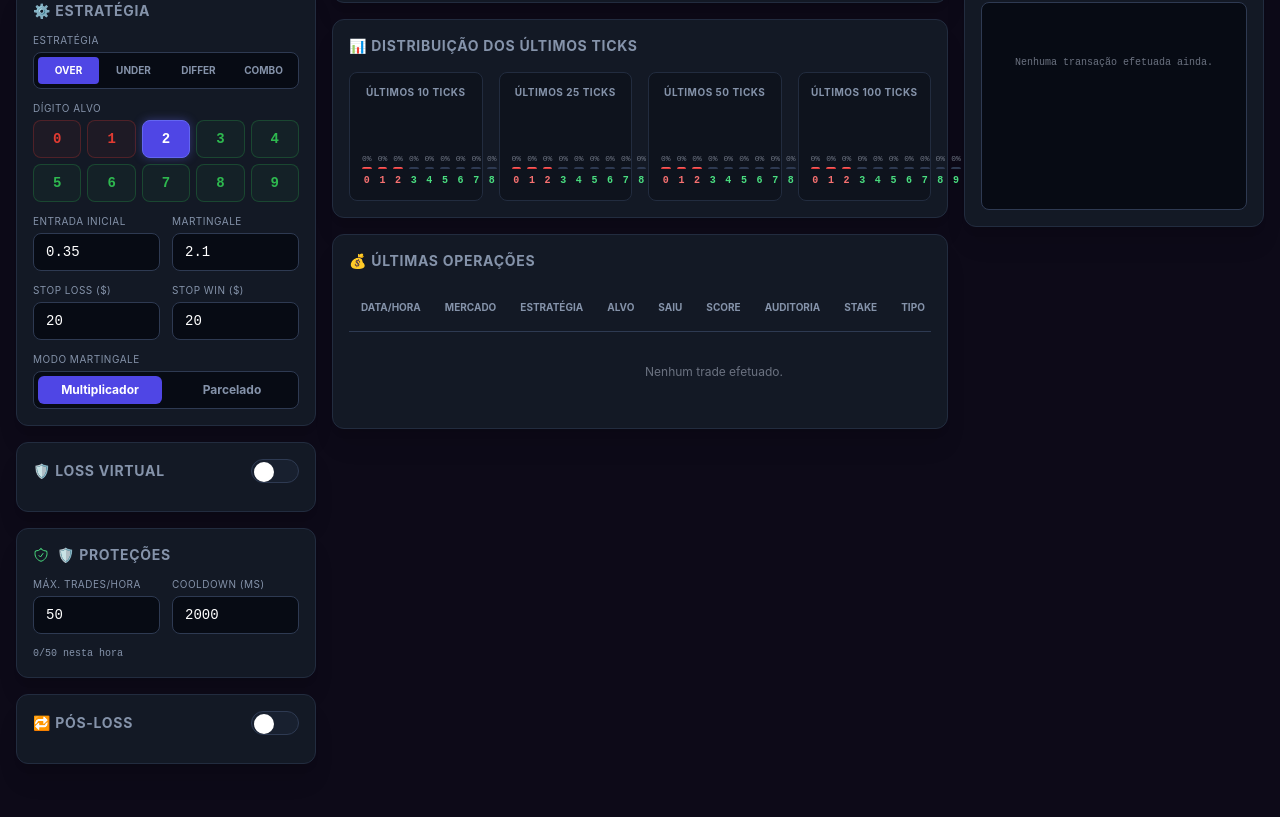
Test: BearBotUltra 2.0 — Bloco Pós-Loss (Card & Funcionalidades) › 6. Alterna para o modo "Analisar" exibindo Cooldown (seg) e banner explicativo
(page scrolled)
Click the button without text next to "🔁 PÓS-LOSS" at coordinates (275, 722), box [251,710,299,734]
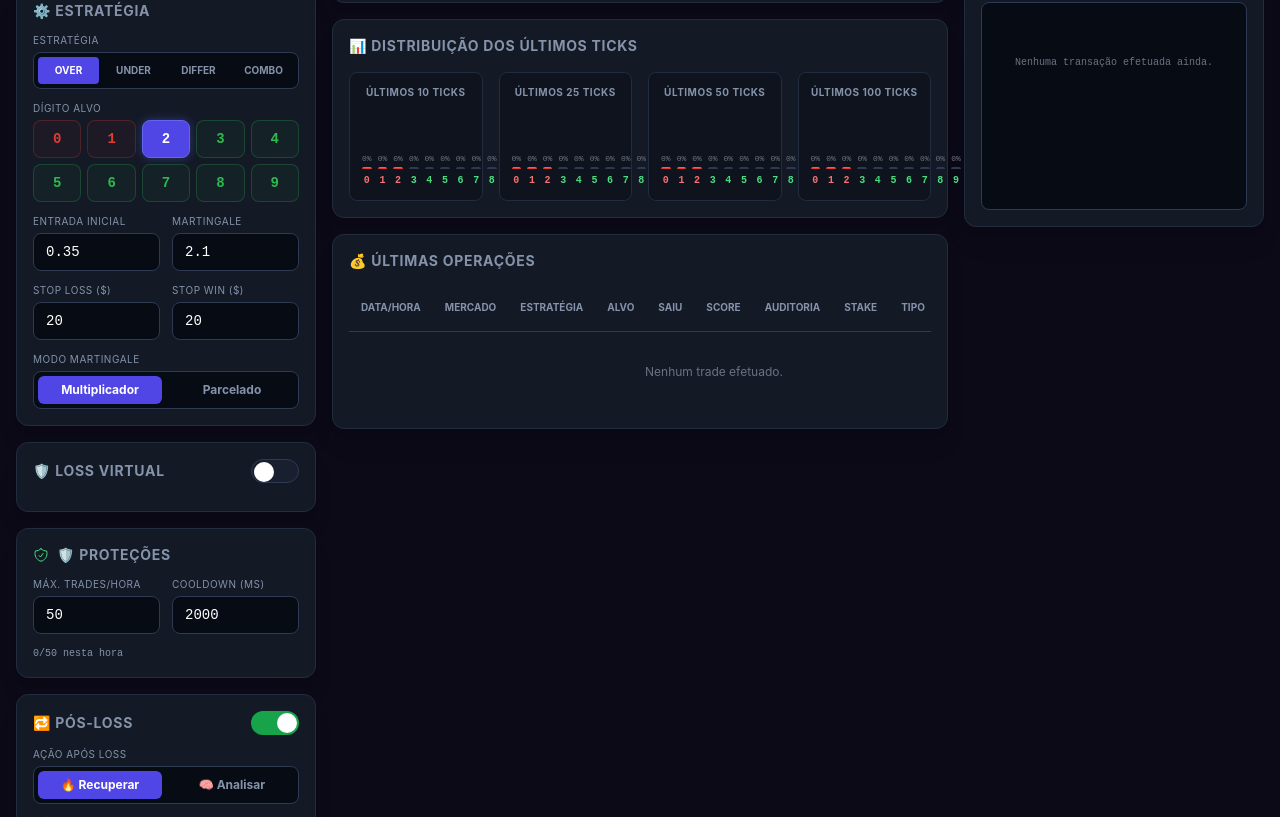
Note: Clicar em Analisar
Click the button "🧠 Analisar" at coordinates (232, 784), box [170,770,294,798]
(page scrolled)
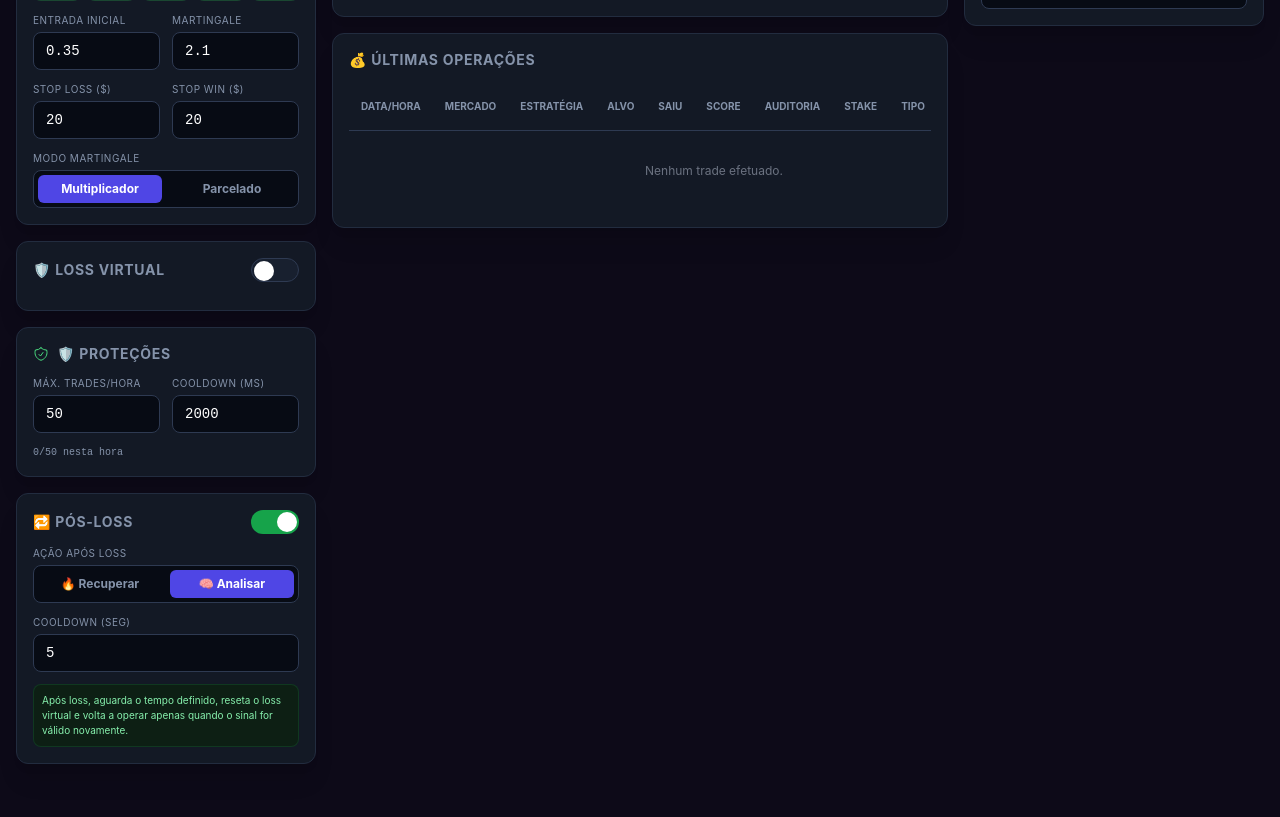
Expected: the number field showing "5" below "Cooldown (seg)" is shown, [33,634,299,672]
Expected: the text "Cooldown (seg)" is shown, [33,616,130,628]
Expected: the text "reseta o loss virtual e volta a operar apenas quando o sinal for válido" is shown, [42,694,281,736]
